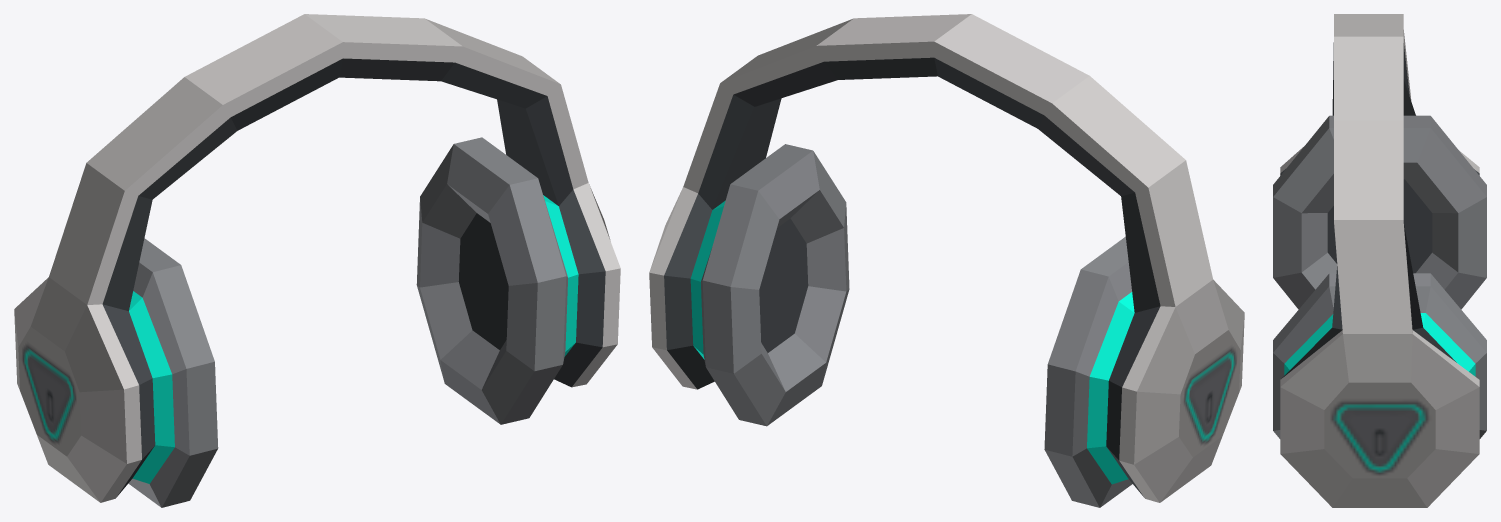
File: SM_Chr_Attach_Headset_02.fbx
3 views of the same model, side by side, from view 1: azimuth 30°, elevation 25°; view 2: azimuth 150°, elevation 25°; view 3: azimuth 270°, elevation 25° (orthographic). The views are drawn at different scales.
Parts seen in each view (by area): view 1: SM_Chr_Attach_Headset_02; view 2: SM_Chr_Attach_Headset_02; view 3: SM_Chr_Attach_Headset_02.
Boxes of the visible parts, box(x1,y1,x2,y2) form: SM_Chr_Attach_Headset_02: box(14, 14, 620, 507); SM_Chr_Attach_Headset_02: box(649, 14, 1244, 507); SM_Chr_Attach_Headset_02: box(1273, 14, 1486, 507).
Bounding box in the file's own units: 32.11 × 23.84 × 12.14.
